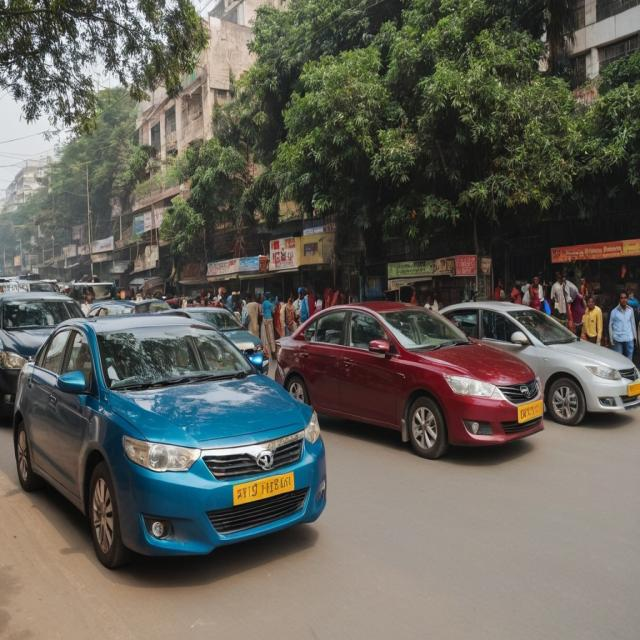blue: (23, 318, 332, 582)
maroon: (271, 298, 542, 469)
white: (432, 293, 640, 433)
